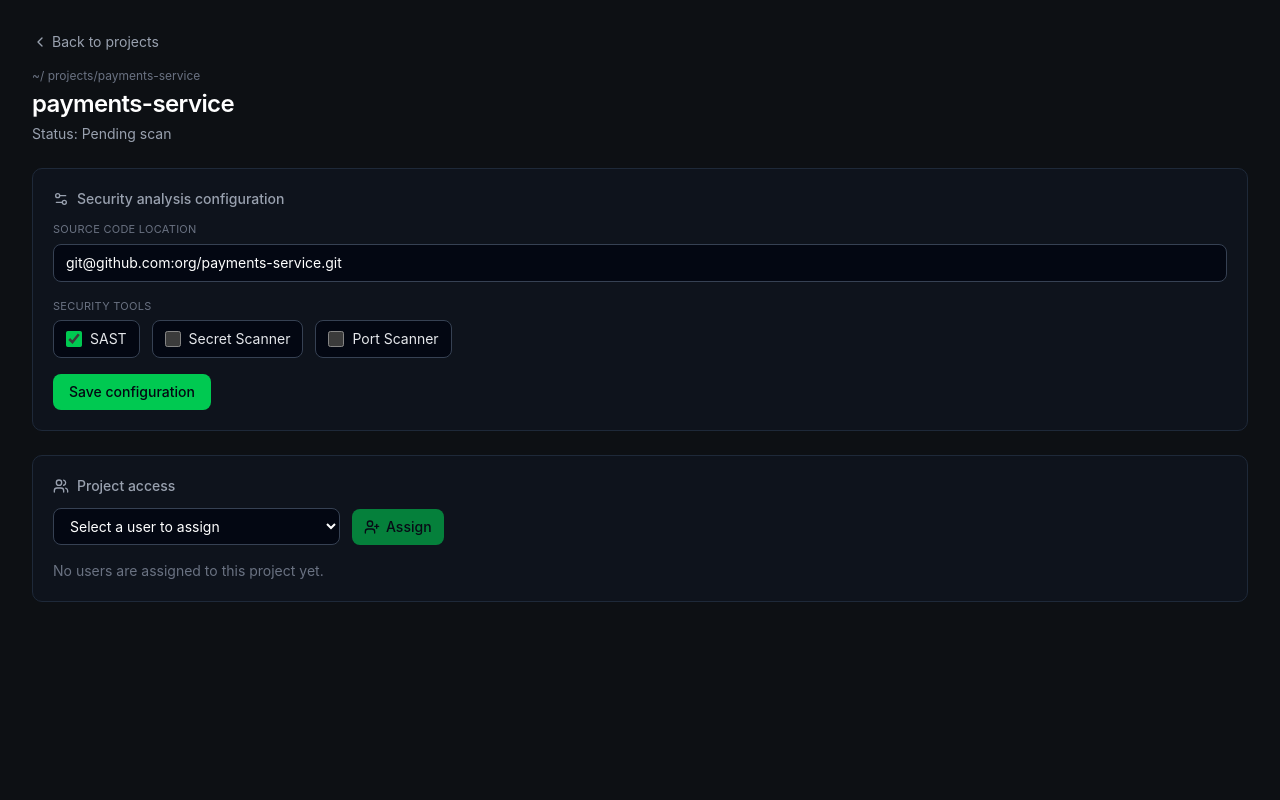
it: ProjectDetailView › assigns a selected user to the project
The width and height of the screenshot is (1280, 800).
Select "Other Analyst (other@example.com)" in the dropdown at point(196, 526), box [53, 508, 340, 545]
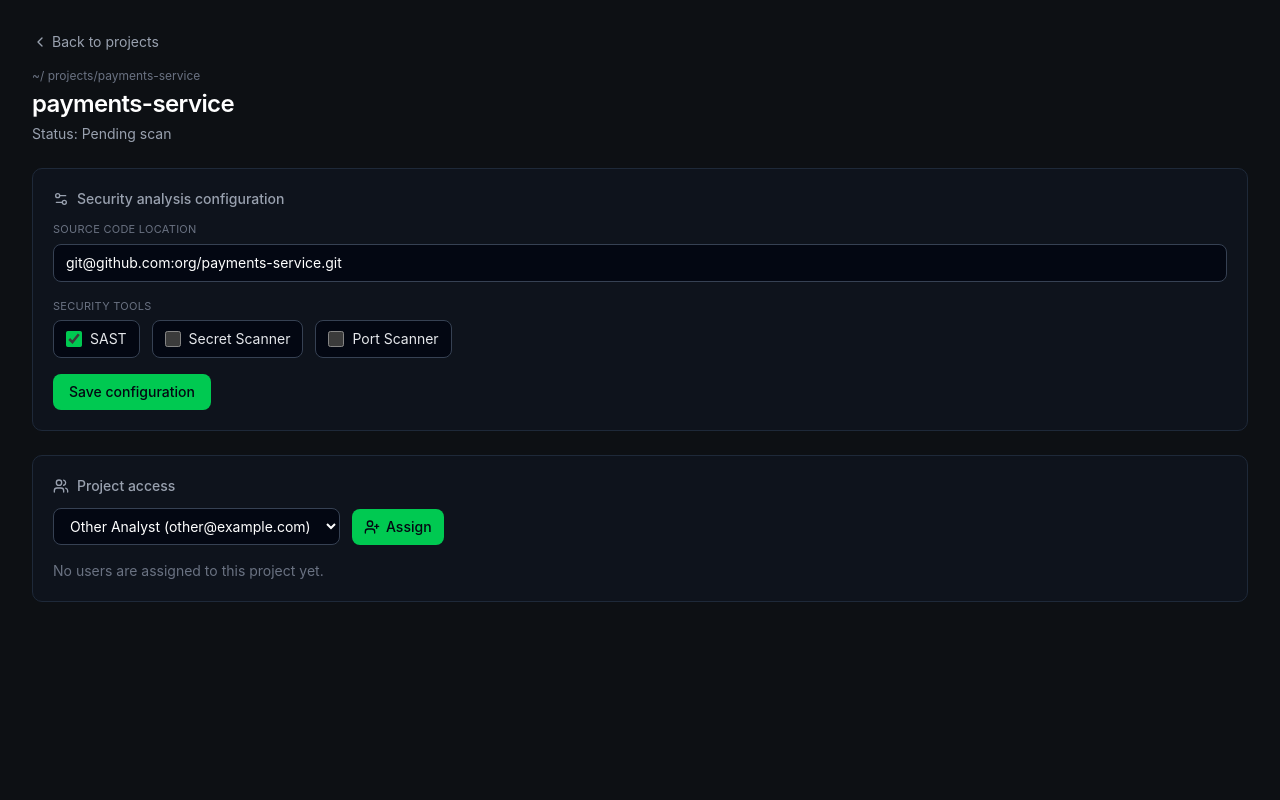
Submit the form "Assign", box [53, 508, 444, 545]
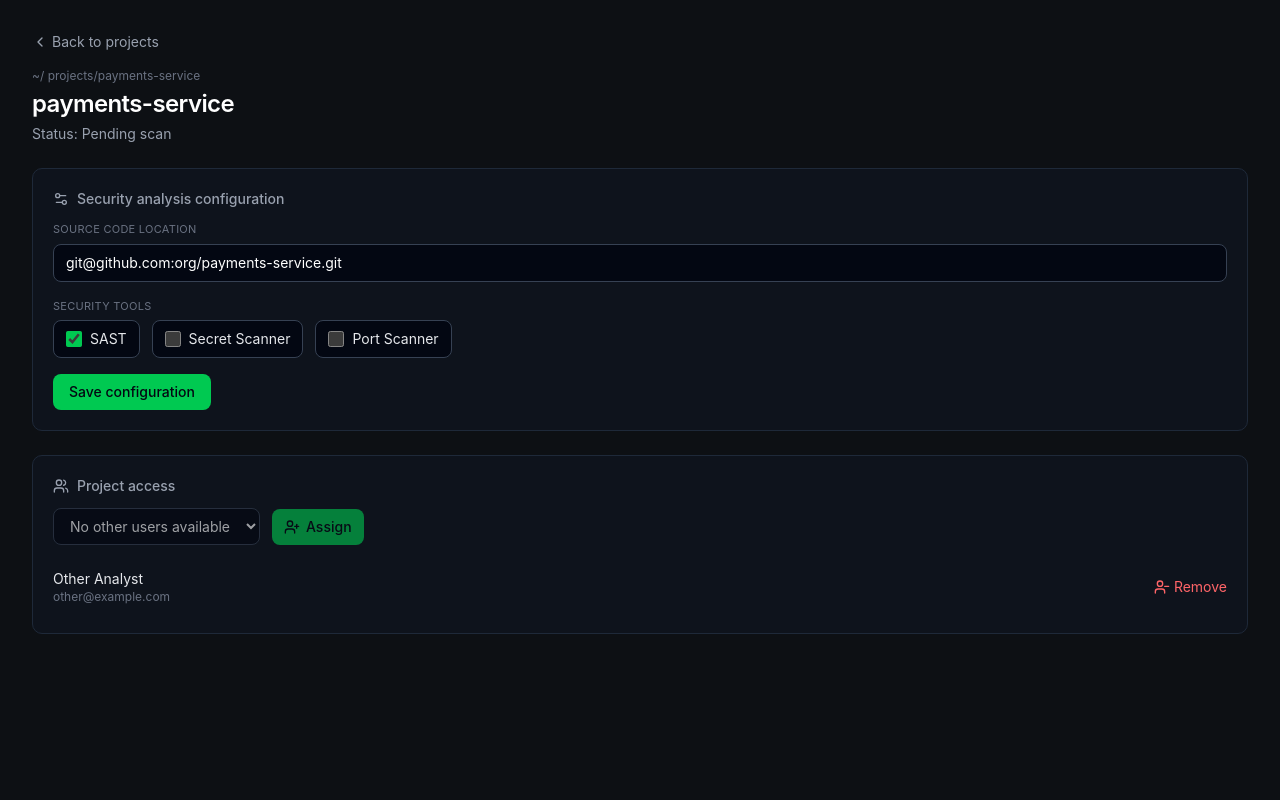
Check: the text "Other Analyst" is shown, box [53, 570, 143, 587]
